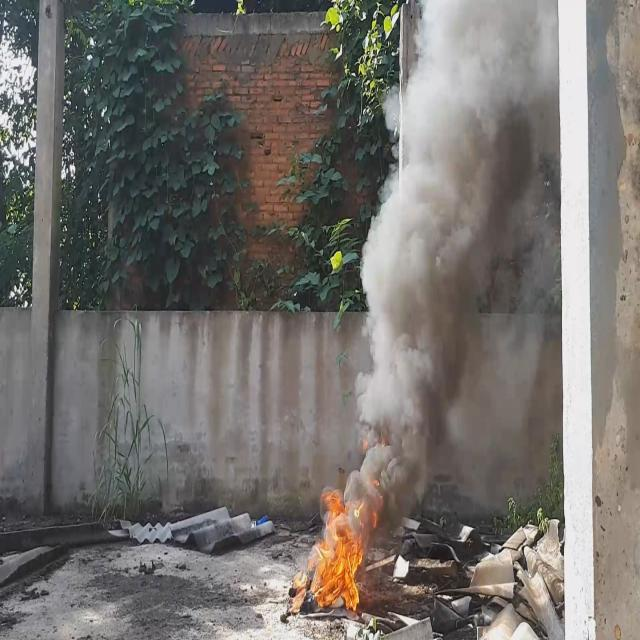Fire: (310, 491, 368, 606)
Smoke: (348, 0, 556, 536)
